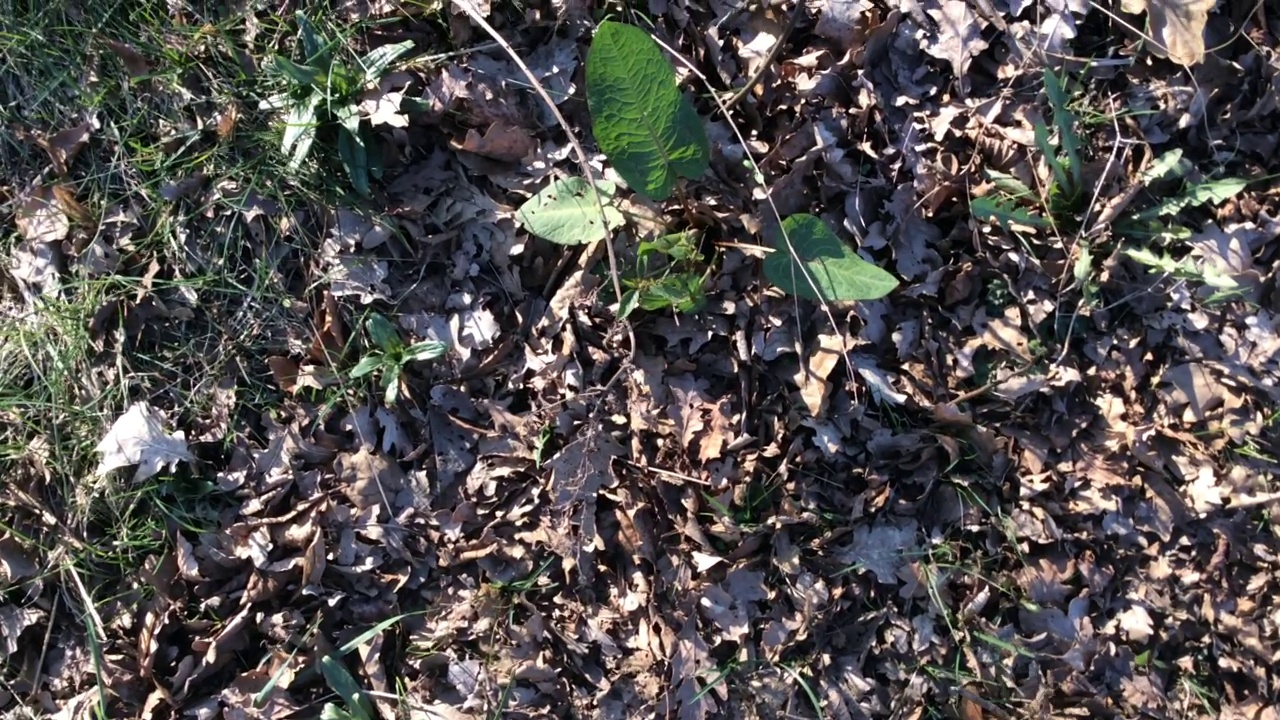rumex: (512, 22, 901, 313)
